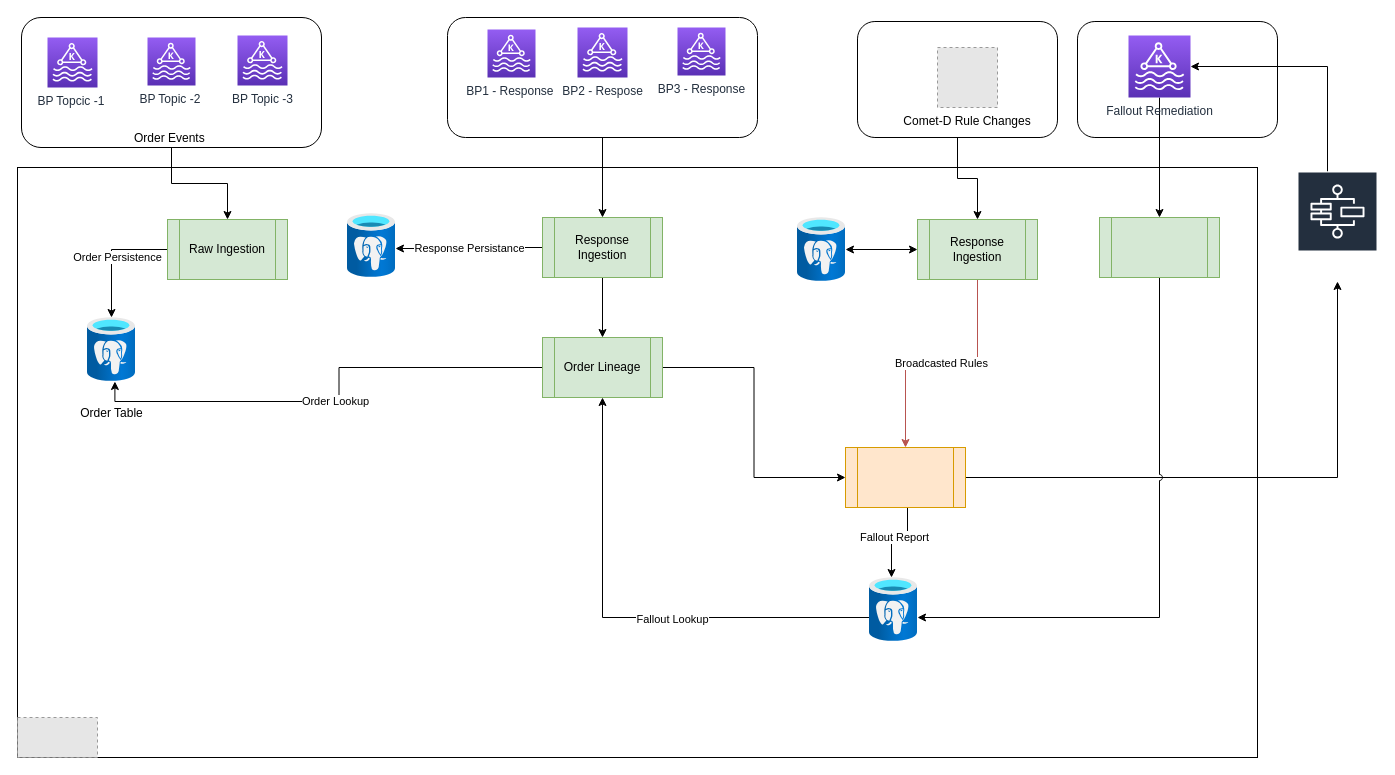
Some shapes in this 1395 by 775 pixel diagram are drawn without their labels. Grey dashed boxes stand in for pictures. The shapes that lost their labels are listed below. From the top down, each one's box as (x1, y1, x2, y2) in pixels, then its label:
(446, 16, 758, 138): Order Response
(347, 213, 395, 277): Response Table
(1296, 170, 1378, 282): AWS Step Functions
(797, 217, 845, 281): Rule Table
(1098, 216, 1220, 278): Fallout Tracking
(844, 446, 966, 508): Fallout Detection
(869, 577, 917, 641): Fallout Store
